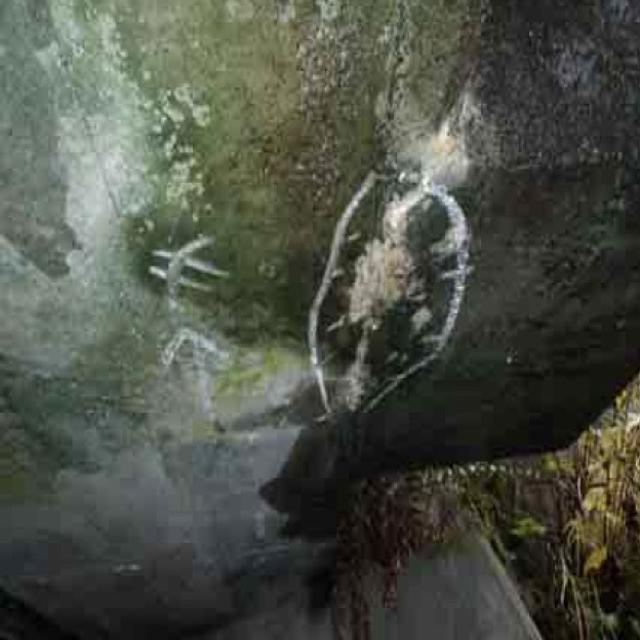freelime: (321, 146, 483, 437)
